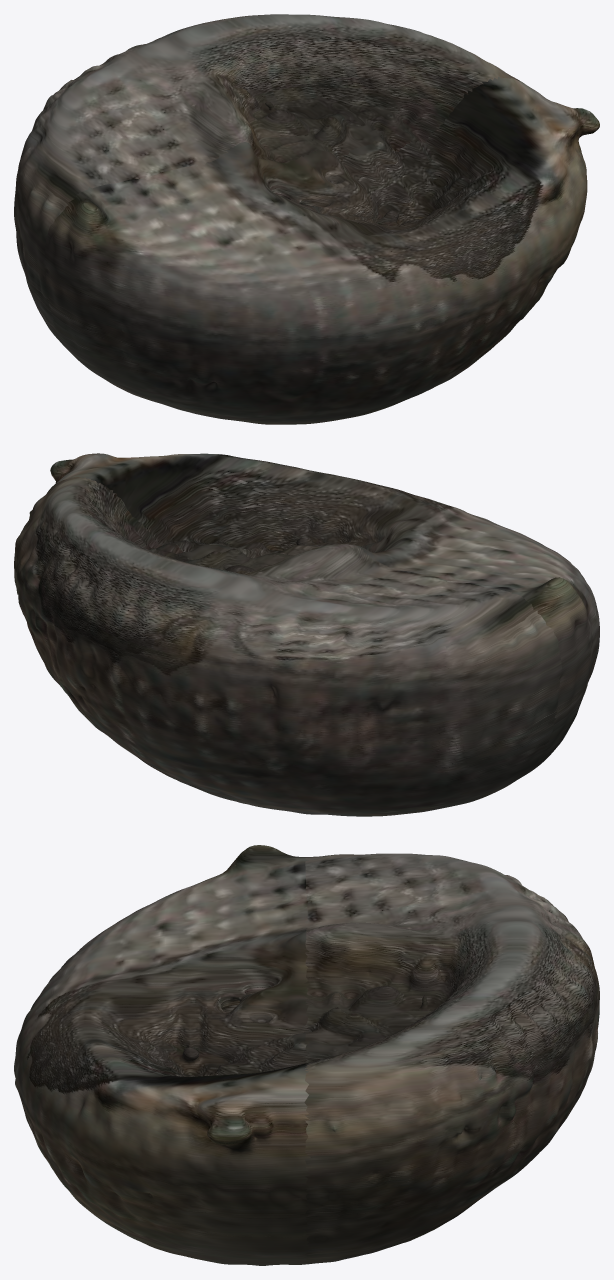
File: kfl-2166.glb
3 views of the same model, one above another, from view 1: azimuth 30°, elevation 25°; view 2: azimuth 150°, elevation 25°; view 3: azimuth 270°, elevation 25° (orthographic). The views are drawn at different scales.
Visible parts, largest first — view 1: geometry_0; view 2: geometry_0; view 3: geometry_0.
Boxes of the visible parts, x1,y1,x2,y2 form: geometry_0: [14, 14, 599, 424]; geometry_0: [14, 453, 599, 816]; geometry_0: [14, 845, 599, 1265].
Size of the model in its own units: 0.9909 by 0.4946 by 0.8693.
Materials: 1 (1 with a texture image).
